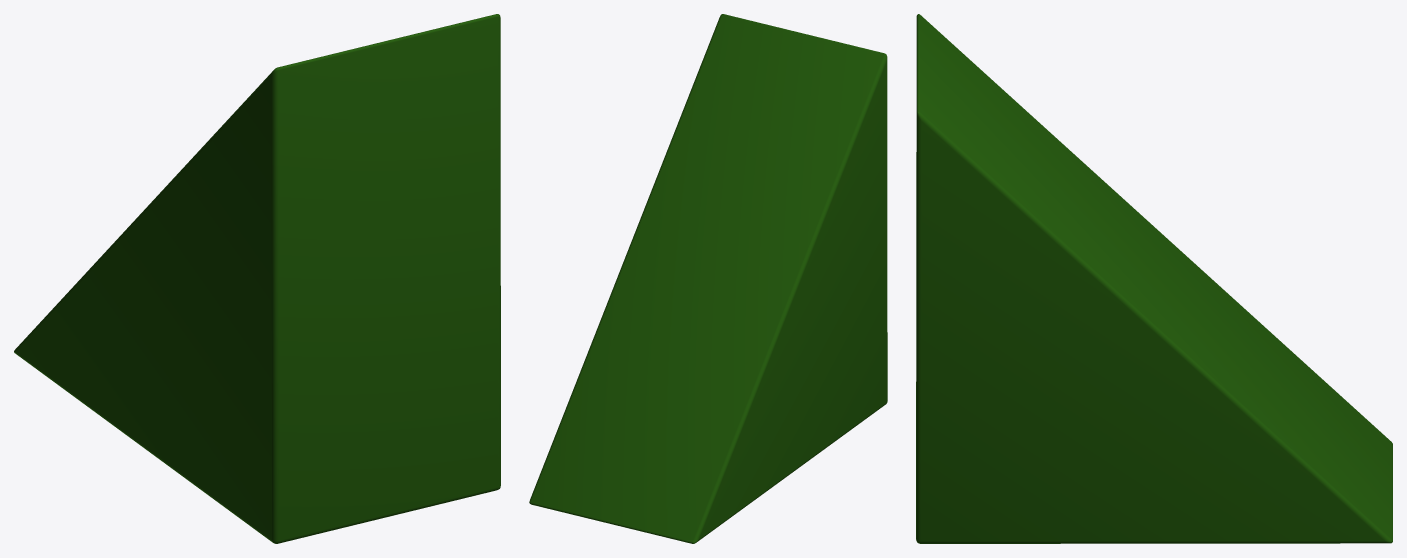
The model's file is Dachgebacken.fbx.
The picture shows the model from 3 angles, left to right: view 1: azimuth 30°, elevation 25°; view 2: azimuth 150°, elevation 25°; view 3: azimuth 270°, elevation 25°; orthographic projection. The views are drawn at different scales.
Visible parts, largest first — view 1: Dach; view 2: Dach; view 3: Dach.
Part boxes in pixels (<box>): Dach: <box>14,14,500,543</box>; Dach: <box>529,14,887,543</box>; Dach: <box>916,14,1392,543</box>.
Bounding box in the file's own units: 25 × 49.85 × 49.85.
